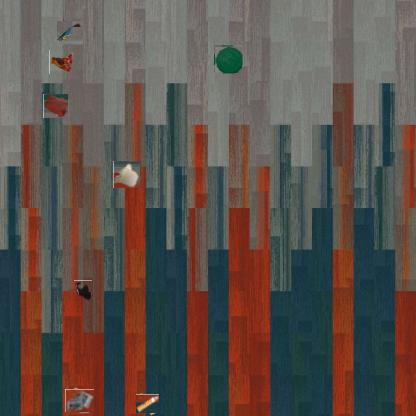dirty: (214, 46, 242, 74), (113, 161, 141, 188), (66, 388, 93, 414), (58, 19, 82, 45), (49, 50, 74, 74), (137, 394, 158, 414)
liquid: (44, 94, 68, 119), (74, 280, 92, 301)
